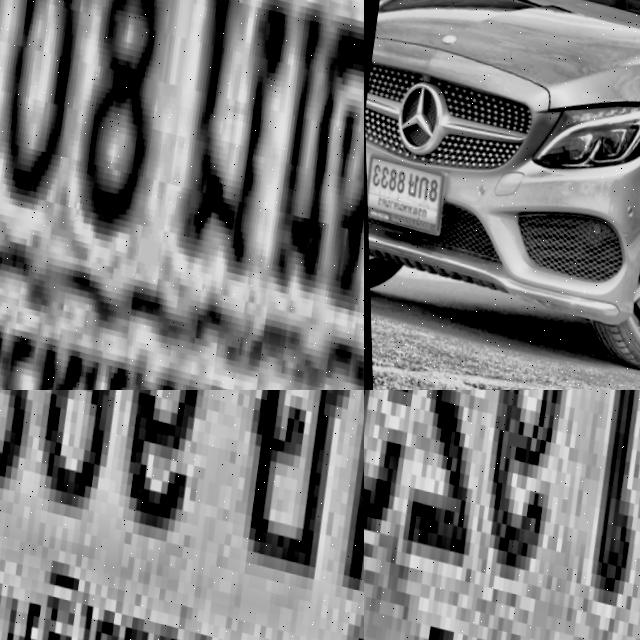license-plate: (0, 0, 364, 390), (0, 390, 364, 640), (364, 390, 640, 640), (364, 148, 446, 237)
